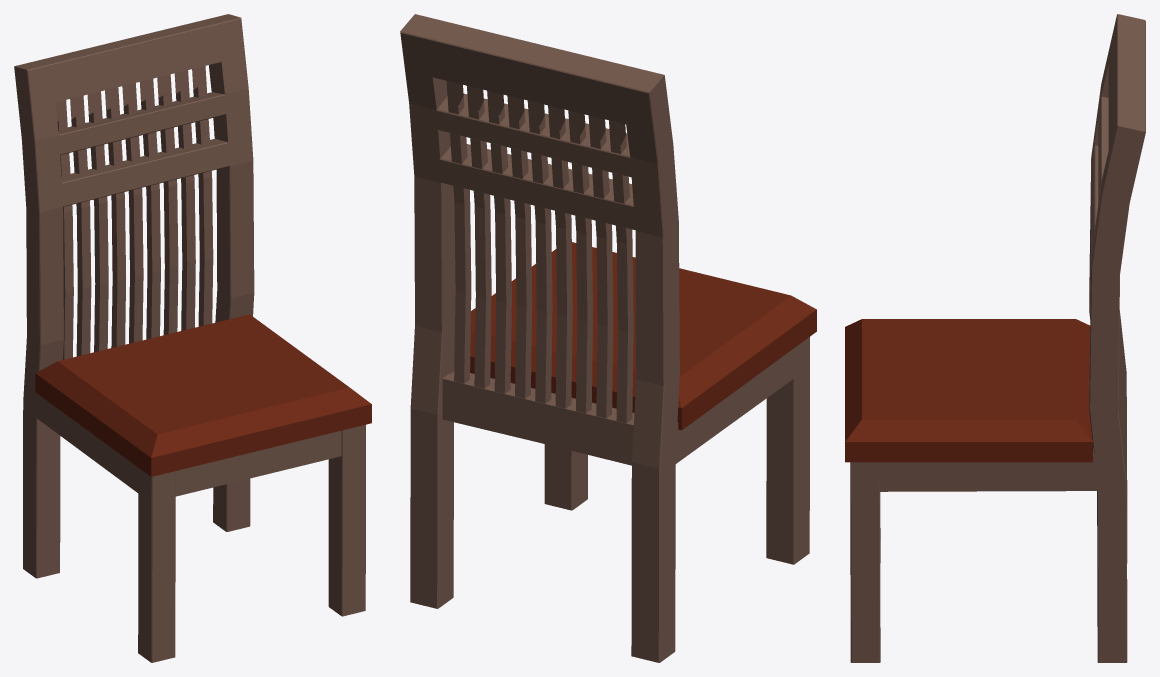
The model's file is WoodenChair1.glb.
3 renders of one model, left to right at view 1: azimuth 30°, elevation 25°; view 2: azimuth 150°, elevation 25°; view 3: azimuth 270°, elevation 25°, orthographic. The views are drawn at different scales.
Parts seen in each view (by area): view 1: WoodenChair1; view 2: WoodenChair1; view 3: WoodenChair1.
Part boxes in pixels (box(x1,y1,x2,y2)): WoodenChair1: box(14, 14, 371, 662); WoodenChair1: box(400, 14, 816, 662); WoodenChair1: box(845, 14, 1145, 662).
Size of the model in its own units: 0.4772 by 1.04 by 0.5267.
